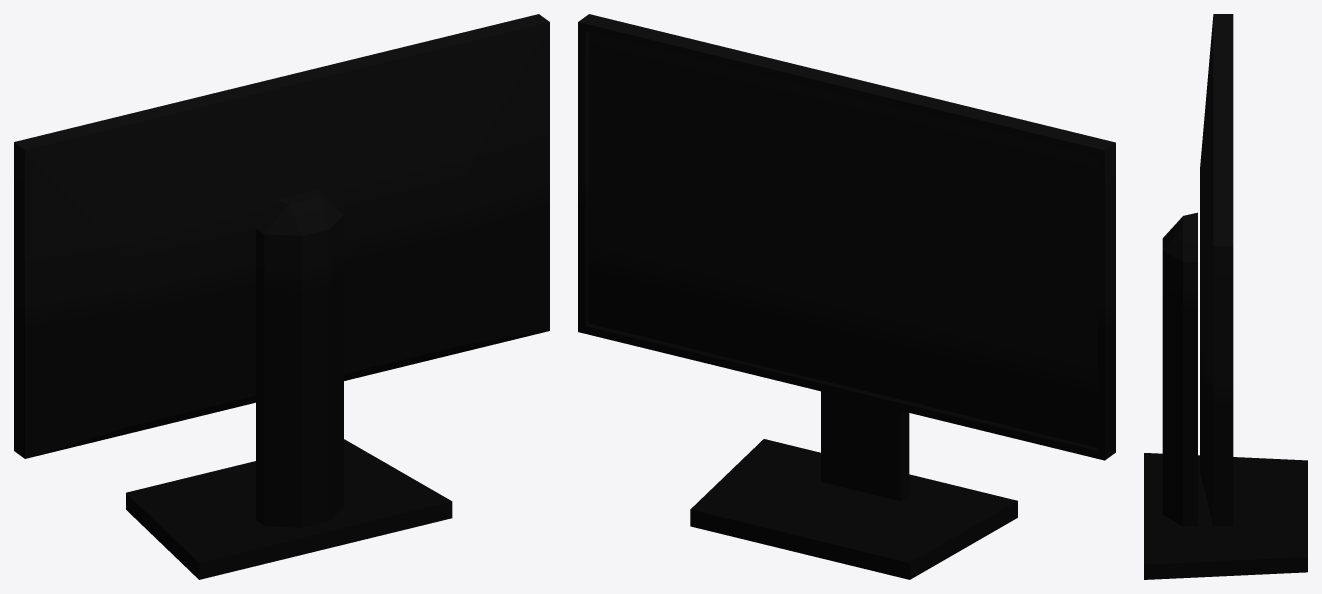
File: Computer_Monitor.fbx
3 renders of one model, left to right at view 1: azimuth 30°, elevation 25°; view 2: azimuth 150°, elevation 25°; view 3: azimuth 270°, elevation 25°, orthographic. The views are drawn at different scales.
Parts seen in each view (by area): view 1: Monitor; view 2: Monitor; view 3: Monitor.
Part boxes in pixels (left/top/right/bottom): Monitor: left=14, top=14, right=549, bottom=579; Monitor: left=578, top=14, right=1115, bottom=579; Monitor: left=1144, top=14, right=1307, bottom=579.
Size of the model in its own units: 75.8 by 60.04 by 22.63.
